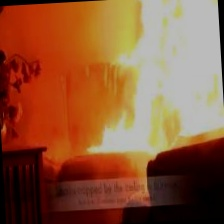fire: (85, 0, 224, 159)
